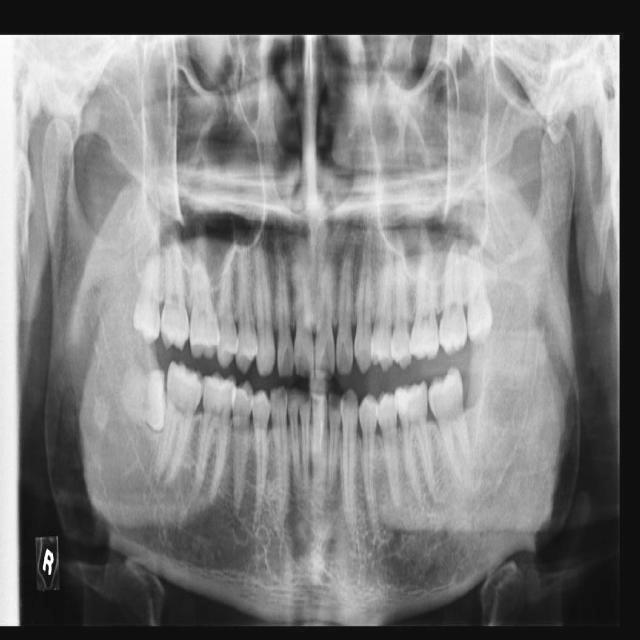impacted tooth: (117, 369, 165, 432), (131, 247, 162, 341), (466, 242, 493, 342)
